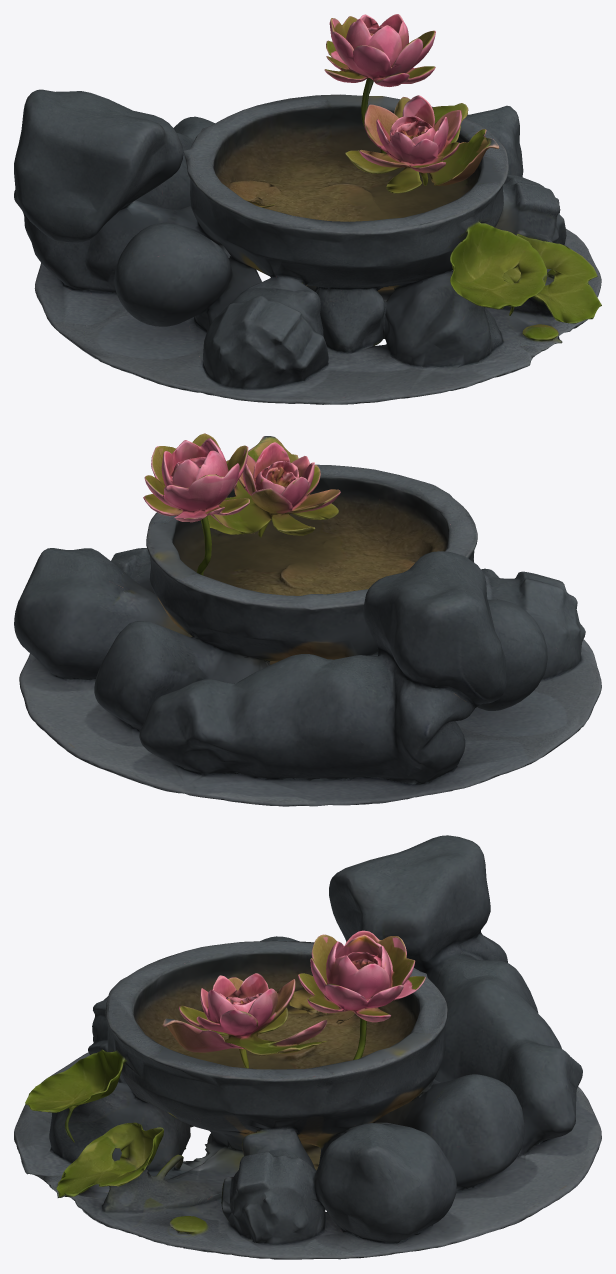
File: DamSenCo_VanLang.fbx
3 renders of one model, top to bottom at view 1: azimuth 30°, elevation 25°; view 2: azimuth 150°, elevation 25°; view 3: azimuth 270°, elevation 25°, orthographic. The views are drawn at different scales.
Visible parts, largest first — view 1: Mesh_0; view 2: Mesh_0; view 3: Mesh_0.
Boxes of the visible parts, x1,y1,x2,y2 form: Mesh_0: (14,14,601,404); Mesh_0: (14,433,601,806); Mesh_0: (14,835,601,1259).
Bounding box in the file's own units: 188 × 91.84 × 190.
1 material, 1 textured.
